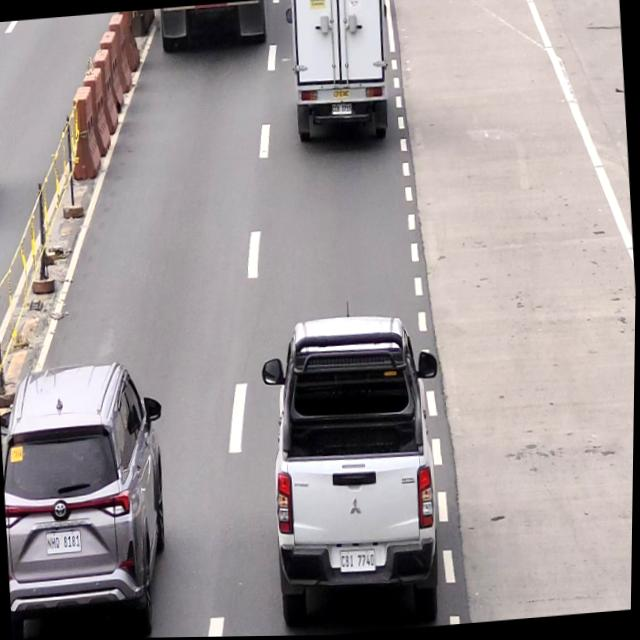Car: (268, 312, 452, 618), (0, 361, 176, 640)
License-Plate: (44, 527, 84, 563), (341, 548, 379, 576), (331, 102, 352, 118)
Truck: (284, 0, 393, 157)
